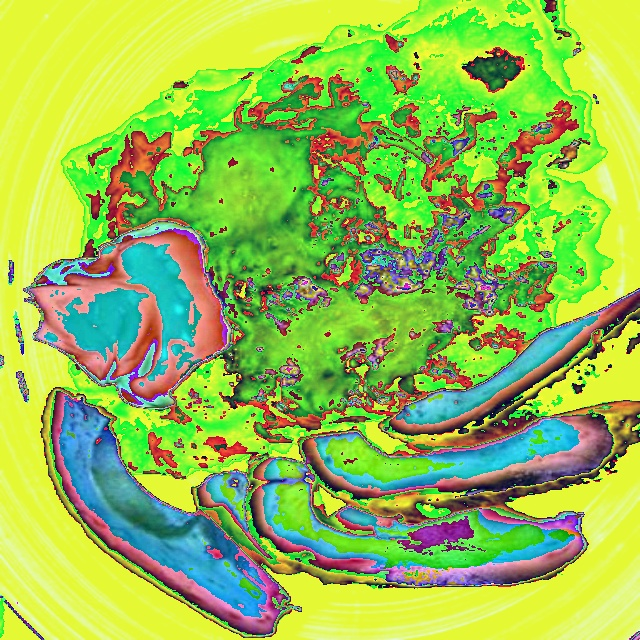background: (22, 0, 639, 640)
